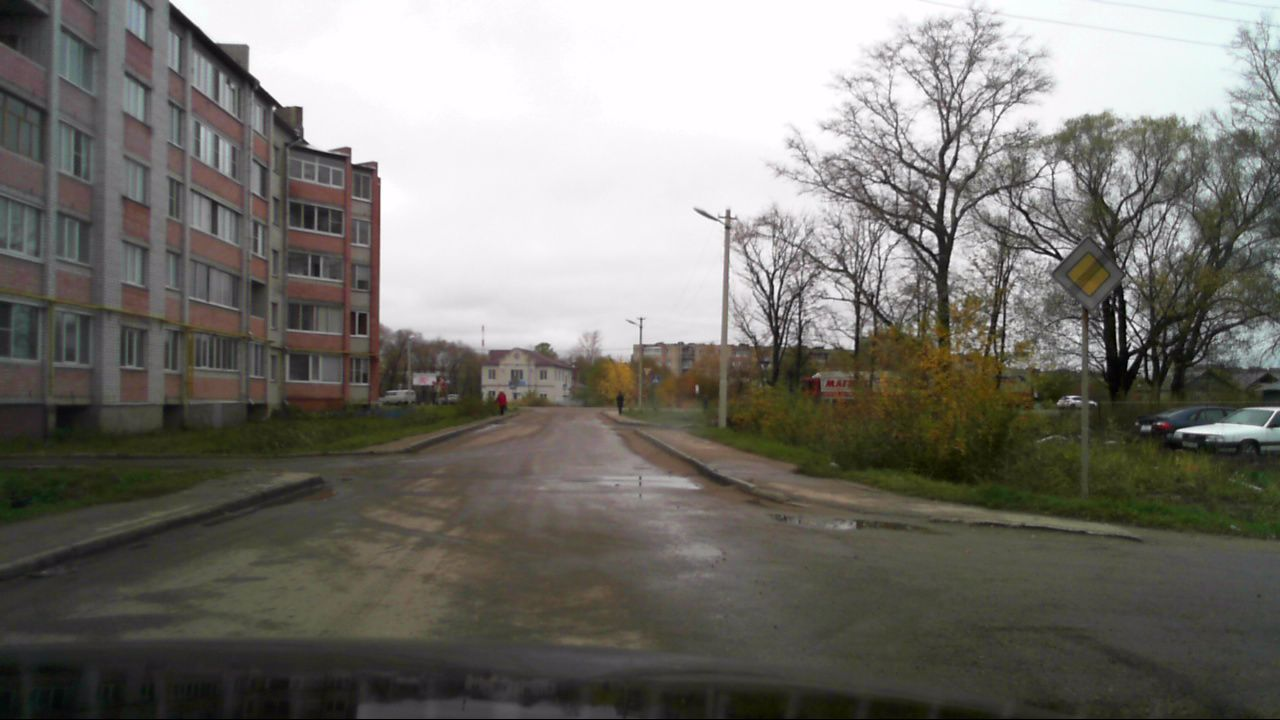main road: (1052, 234, 1123, 316)
